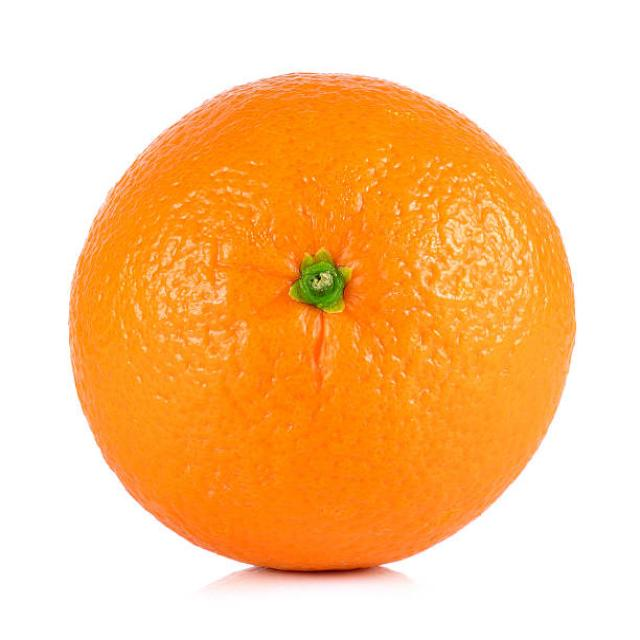Ripe: (66, 63, 579, 575)
